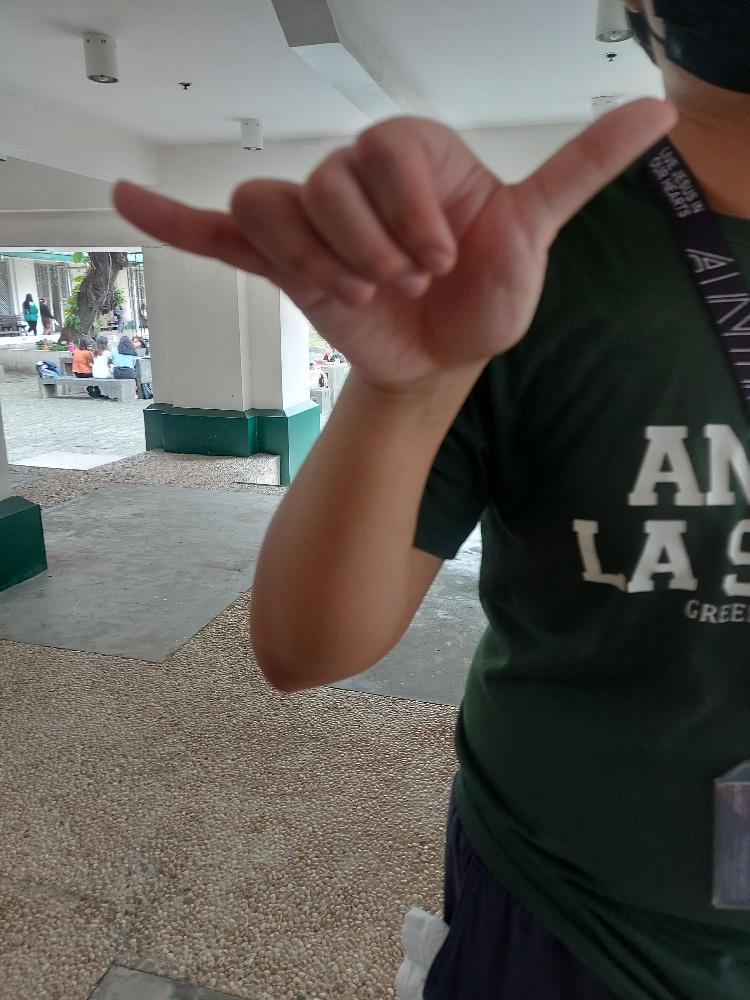y: (109, 94, 684, 386)
